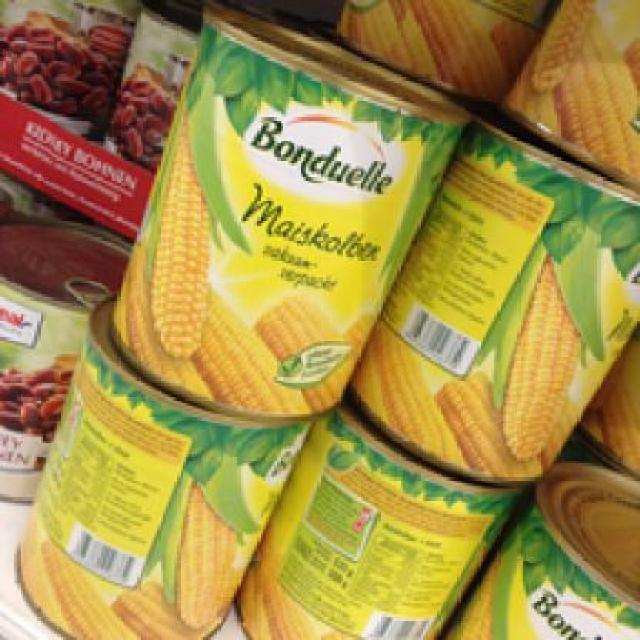Corn: (108, 6, 464, 423), (352, 113, 638, 490), (13, 320, 306, 637), (226, 412, 512, 638)
